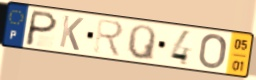4: (167, 28, 193, 68)
K: (57, 14, 86, 53)
O: (197, 33, 229, 71)
P: (23, 9, 60, 48)
Q: (126, 23, 158, 63)
R: (92, 17, 125, 59)
